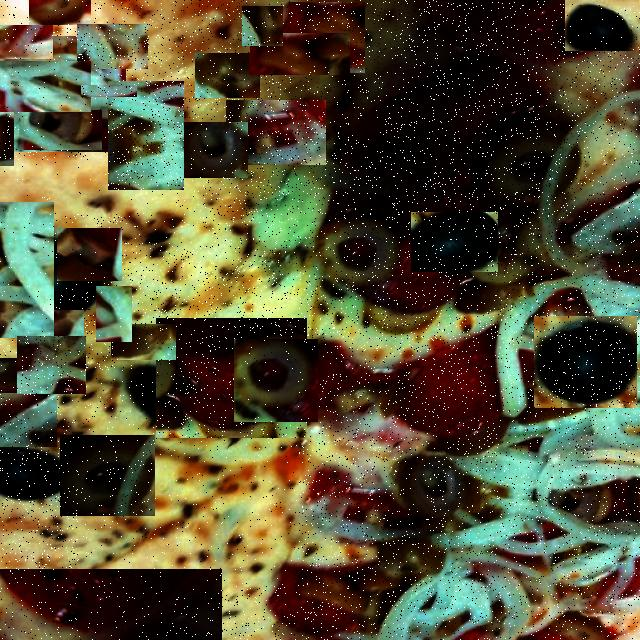Olives: (534, 316, 637, 408), (60, 435, 155, 516), (234, 339, 318, 422), (412, 212, 499, 272), (124, 176, 203, 242), (565, 136, 640, 197), (171, 122, 248, 178), (250, 33, 350, 75), (58, 371, 137, 421), (565, 0, 640, 51), (118, 344, 168, 414), (57, 228, 122, 281), (19, 110, 102, 150), (196, 53, 262, 98), (111, 324, 176, 360), (228, 222, 302, 252), (242, 6, 283, 46), (29, 0, 91, 25), (36, 310, 84, 338), (0, 358, 23, 400), (0, 112, 14, 166)
Onions: (108, 81, 184, 190), (107, 0, 250, 55), (0, 160, 141, 214), (0, 202, 54, 338), (0, 61, 91, 112), (17, 336, 86, 394), (77, 24, 148, 69), (0, 393, 57, 447), (96, 286, 132, 342), (0, 25, 53, 59), (81, 85, 137, 97)
Pepperoni: (79, 400, 298, 586), (156, 318, 307, 438), (0, 569, 222, 640), (0, 36, 126, 152), (118, 203, 239, 289), (226, 100, 326, 165), (282, 2, 365, 73)
Pizza: (0, 0, 640, 640)
